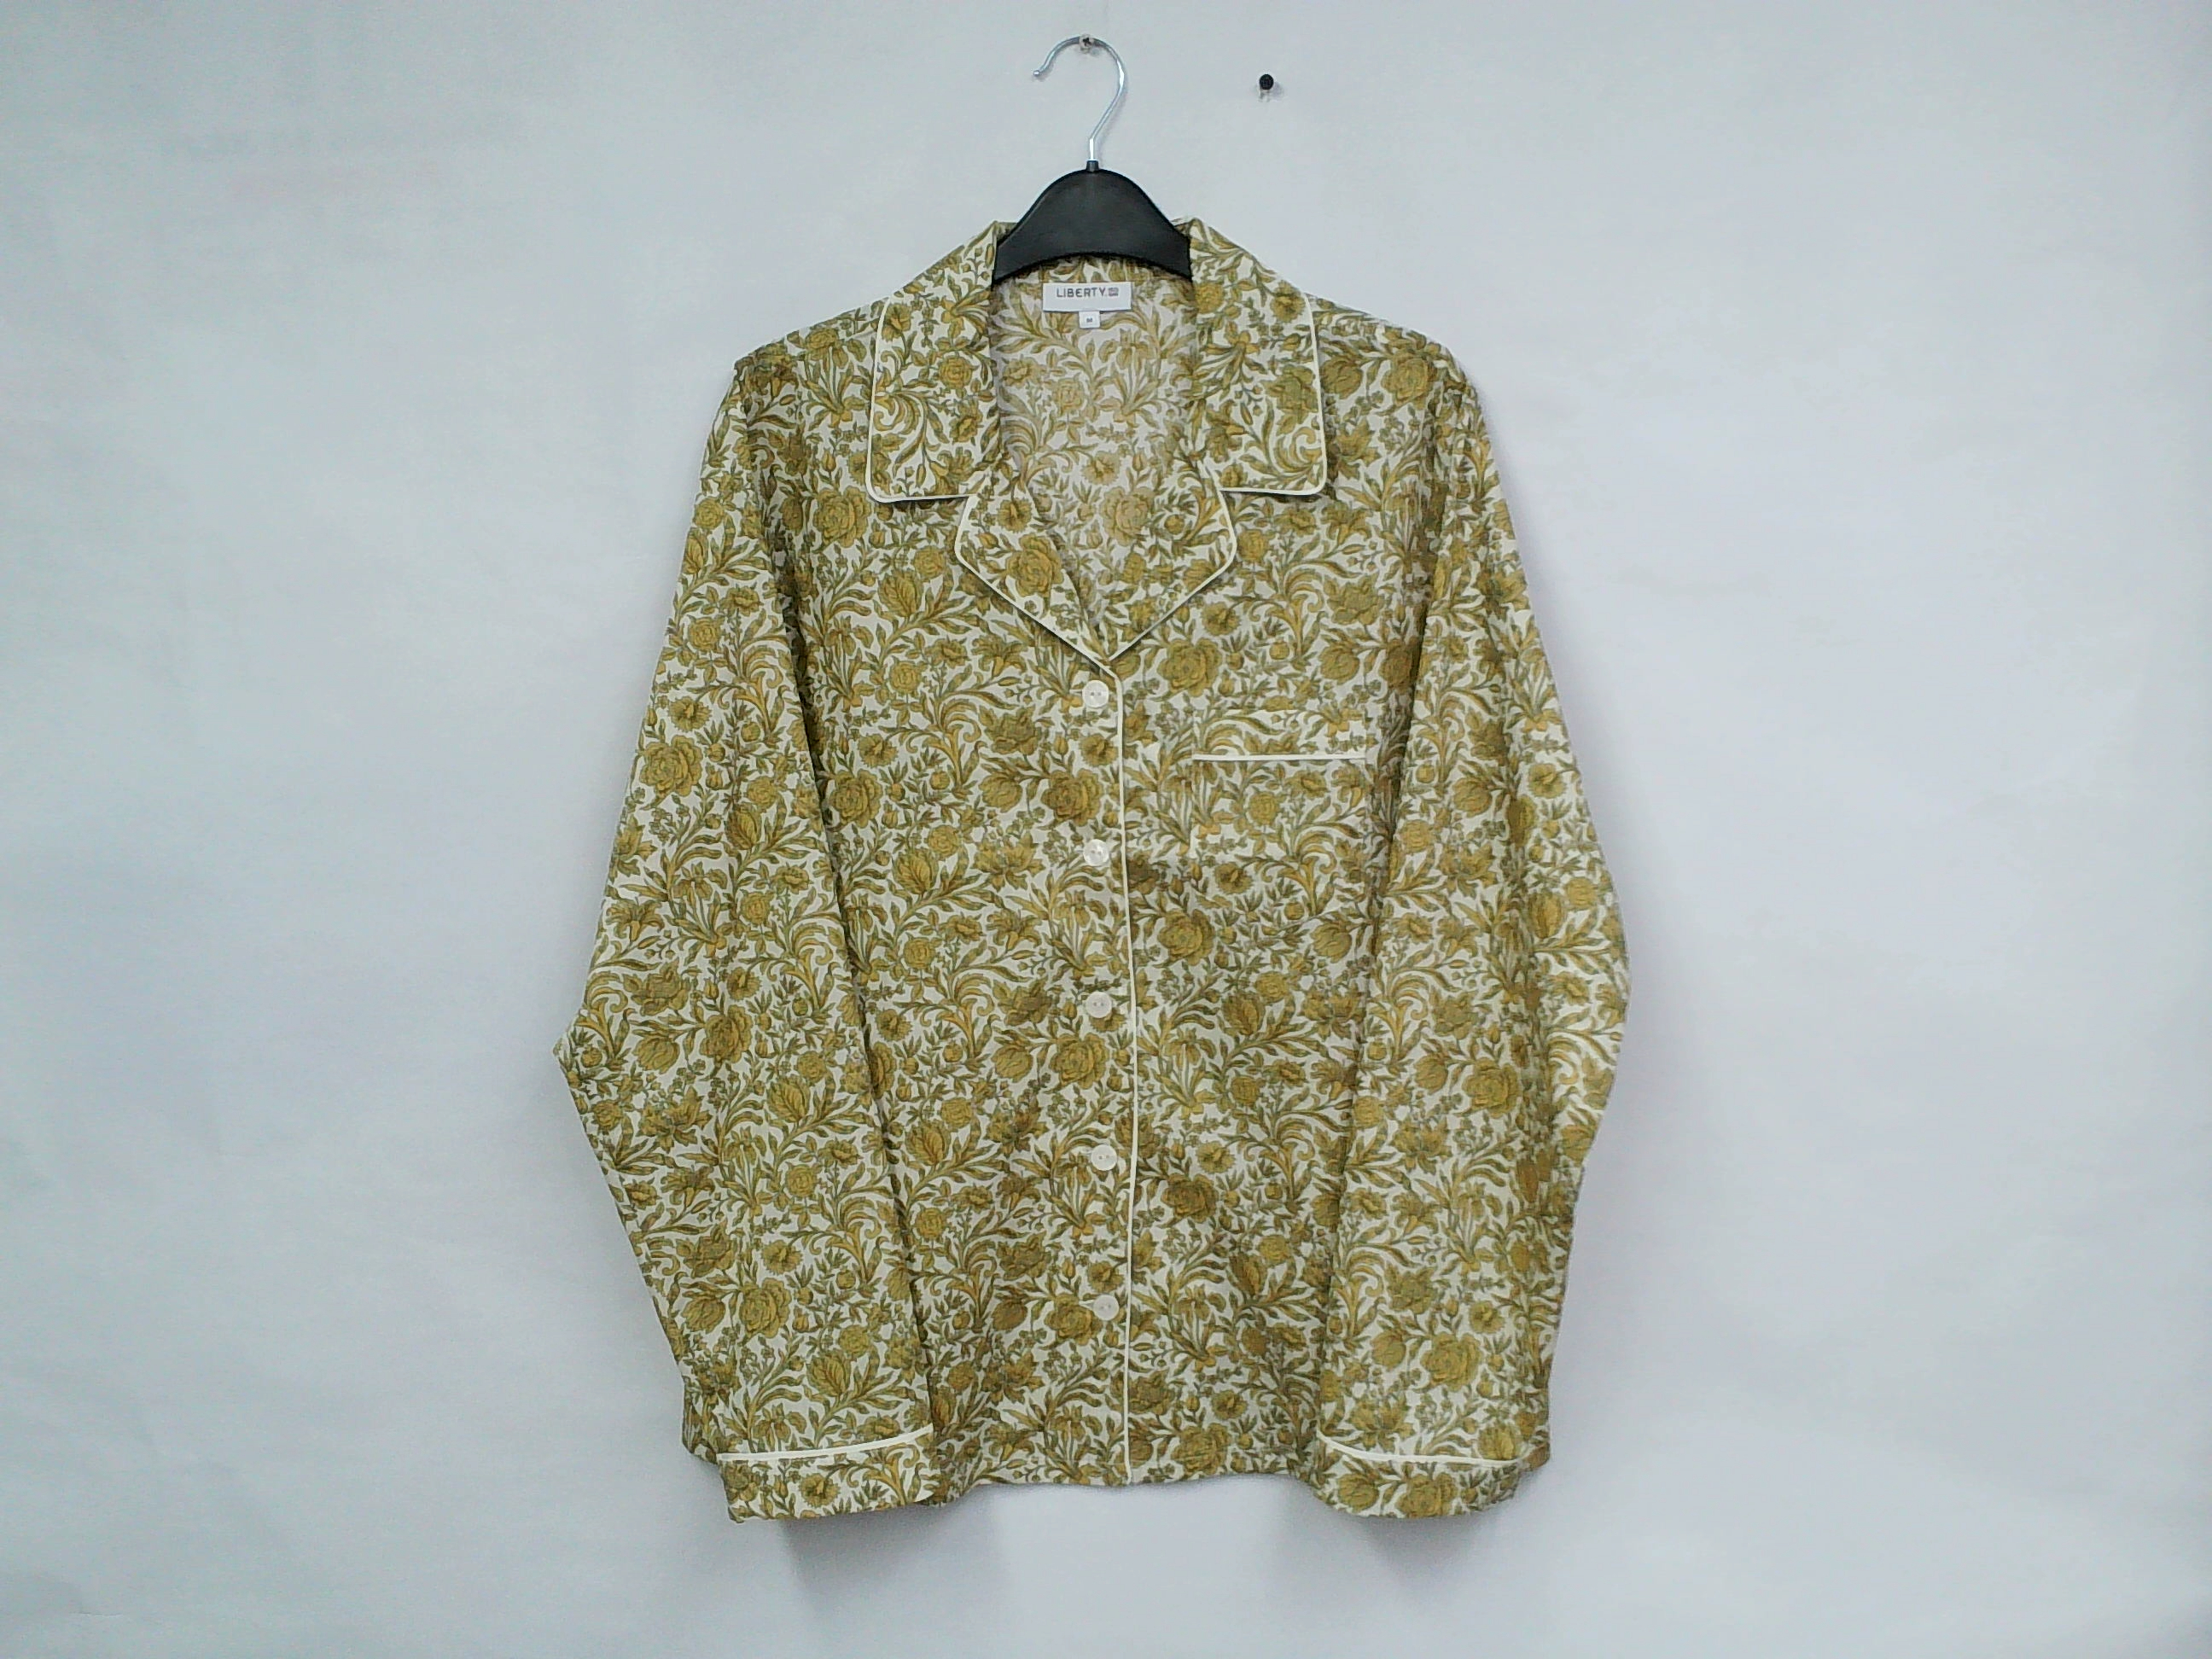seam: (707, 1408, 937, 1486)
